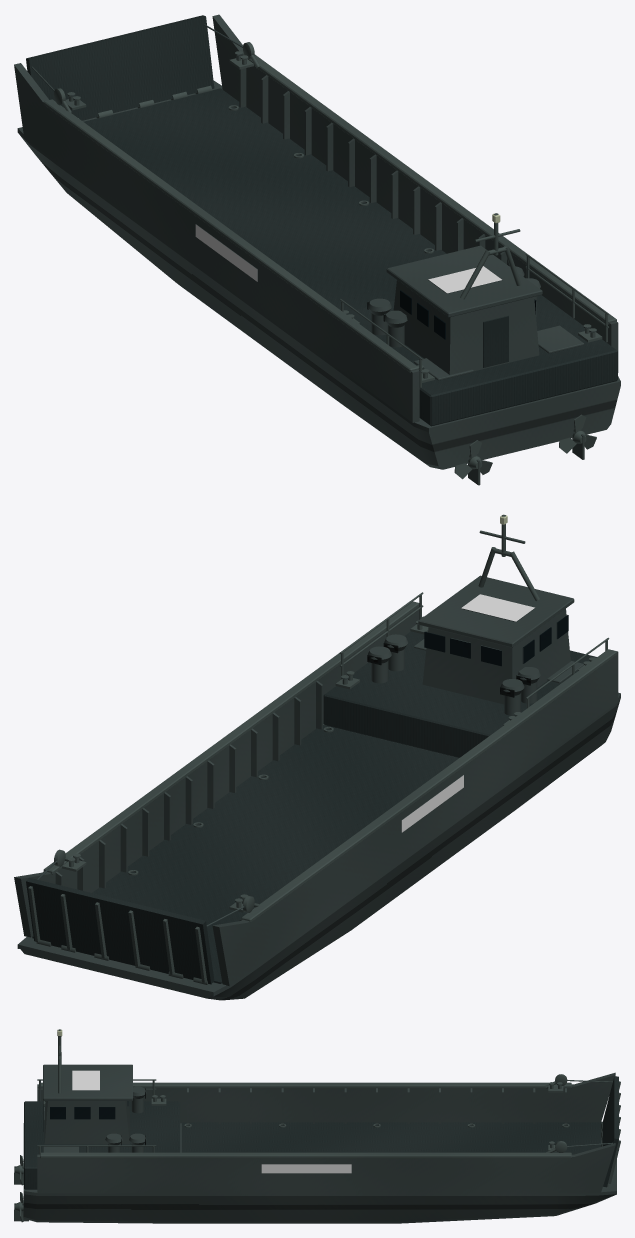
Rendered from landing_craft.glb.
The picture shows the model from 3 angles, top to bottom: view 1: azimuth 30°, elevation 25°; view 2: azimuth 150°, elevation 25°; view 3: azimuth 270°, elevation 25°; orthographic projection. The views are drawn at different scales.
Visible parts, largest first — view 1: hull, deck, superstructure, bow_ramp, fittings, propulsion, mast; view 2: hull, deck, superstructure, bow_ramp, fittings, mast; view 3: hull, deck, superstructure, fittings, bow_ramp, propulsion.
Part boxes in pixels (x1,y1,x2,y2): hull: (14, 14, 620, 469); deck: (83, 88, 617, 426); superstructure: (386, 245, 542, 374); bow_ramp: (26, 15, 214, 120); fittings: (54, 42, 609, 387); propulsion: (454, 414, 596, 485); mast: (460, 213, 521, 299); hull: (14, 601, 620, 1000); deck: (32, 631, 596, 983); superstructure: (418, 575, 574, 704); bow_ramp: (26, 877, 214, 984); fittings: (54, 592, 609, 912); mast: (478, 514, 539, 600); hull: (23, 1072, 616, 1223); deck: (24, 1101, 601, 1189); superstructure: (43, 1064, 132, 1144); fittings: (37, 1074, 567, 1154); bow_ramp: (602, 1076, 620, 1187); propulsion: (14, 1155, 28, 1222).
Bounding box in the file's own units: 6.56 × 7.14 × 22.94.
Materials: 1 (1 with a texture image).
